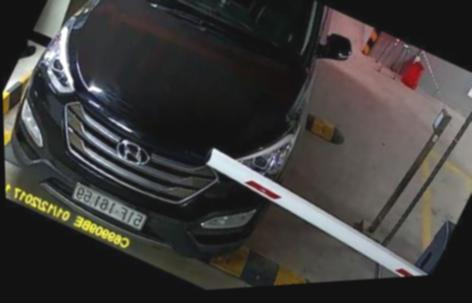License_Plate: (73, 176, 160, 239)
